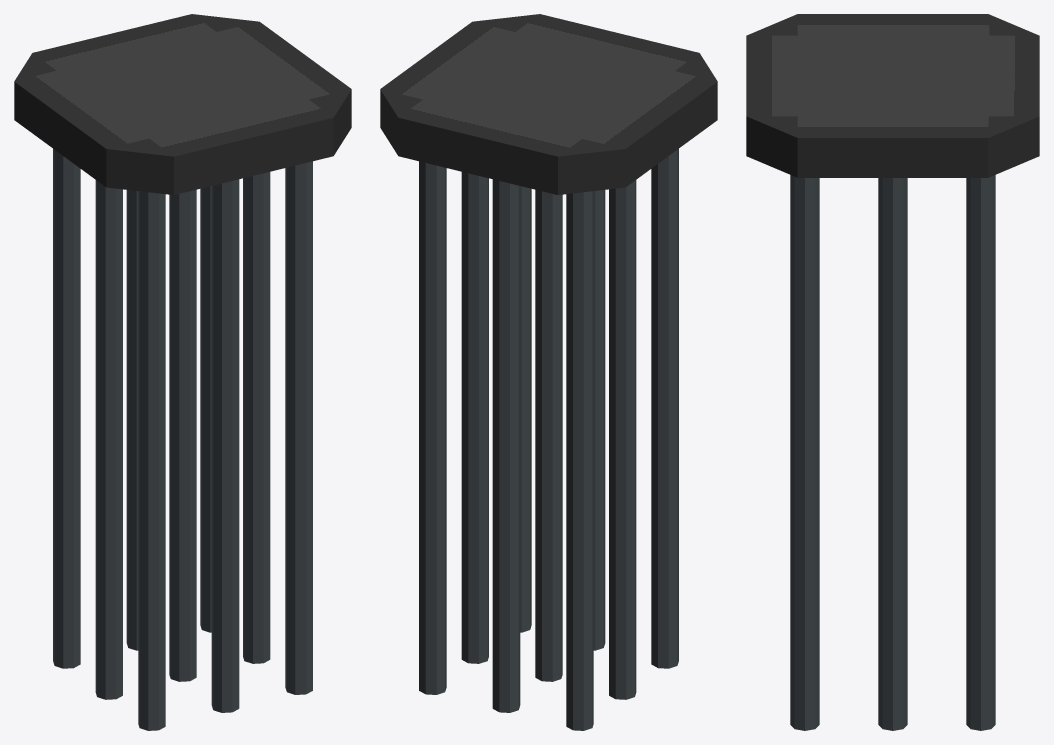
Rendered from reactor_small_rods.obj.
3 views of the same model, side by side, from view 1: azimuth 30°, elevation 25°; view 2: azimuth 150°, elevation 25°; view 3: azimuth 270°, elevation 25° (orthographic). The views are drawn at different scales.
Parts seen in each view (by area): view 1: Cylinder; view 2: Cylinder; view 3: Cylinder.
Boxes of the visible parts, left/top/right/bottom form: Cylinder: left=14, top=14, right=351, bottom=730; Cylinder: left=380, top=14, right=717, bottom=730; Cylinder: left=746, top=14, right=1039, bottom=730.
Bounding box in the file's own units: 1 × 2.3 × 1.
